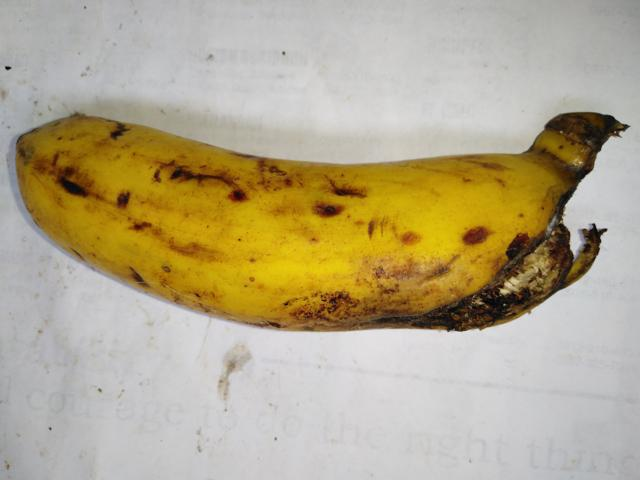ripe: (10, 94, 634, 351)
rotten: (385, 205, 614, 360)
